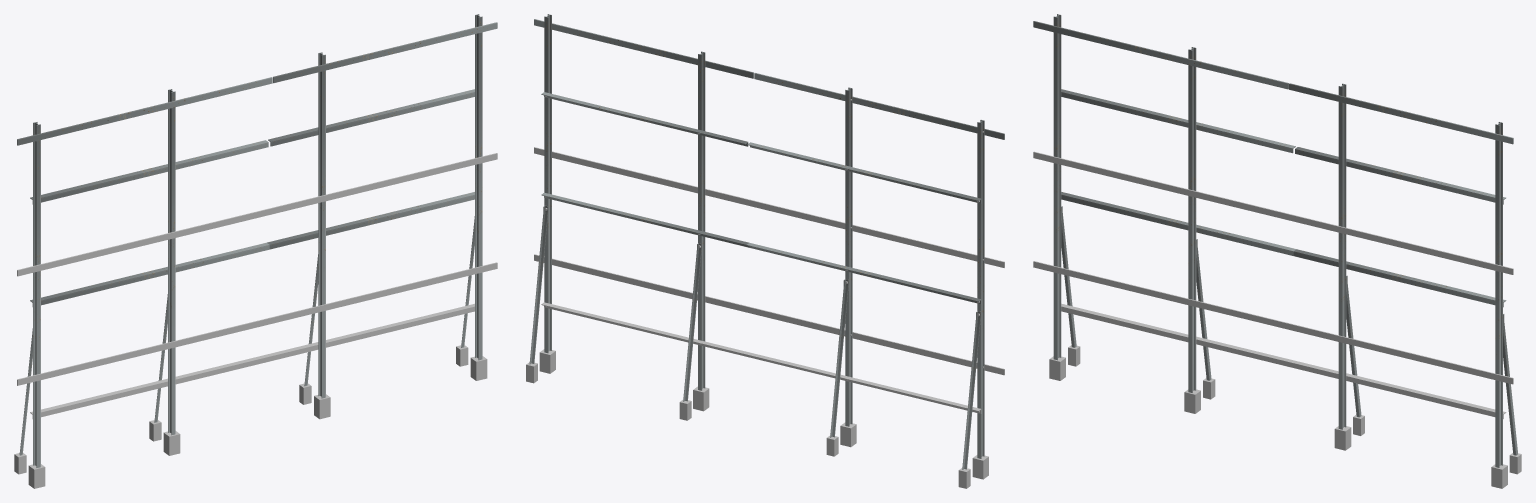
File: signboardframe02b.fbx
The picture shows the model from 3 angles, left to right: view 1: azimuth 30°, elevation 25°; view 2: azimuth 150°, elevation 25°; view 3: azimuth 330°, elevation 25°; orthographic projection. The views are drawn at different scales.
Parts seen in each view (by area): view 1: signboardframe02b; view 2: signboardframe02b; view 3: signboardframe02b.
Boxes of the visible parts, x1,y1,x2,y2 form: signboardframe02b: (14, 14, 497, 488); signboardframe02b: (526, 14, 1004, 488); signboardframe02b: (1033, 14, 1521, 488).
Bounding box in the file's own units: 442 × 319 × 34.21.
